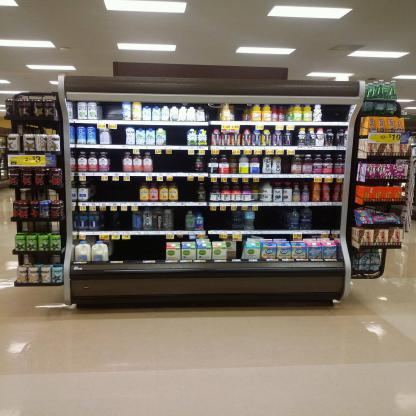Void: (91, 183, 135, 202), (114, 243, 161, 259), (313, 205, 338, 229), (259, 208, 286, 229), (158, 157, 192, 171), (206, 210, 229, 230), (102, 215, 129, 230), (167, 128, 190, 144), (325, 106, 345, 121), (104, 103, 121, 119), (180, 184, 195, 201), (174, 210, 186, 230), (111, 152, 122, 172), (112, 130, 126, 144), (206, 106, 216, 120), (283, 156, 290, 173), (236, 106, 241, 120)
